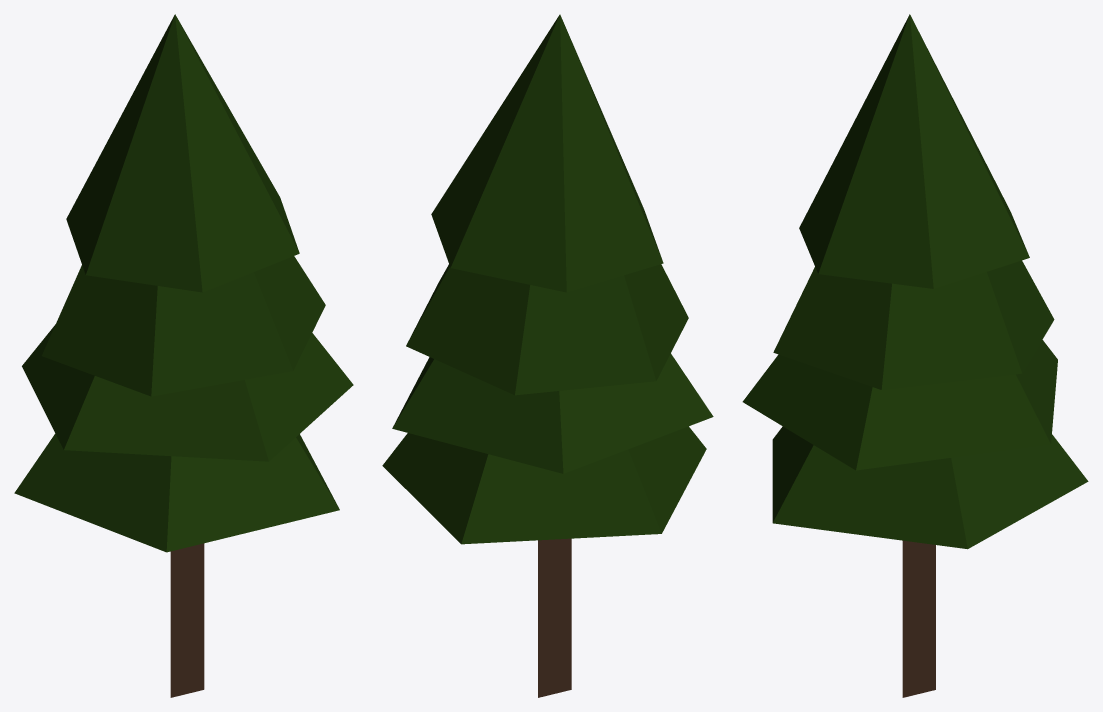
Rendered from spruceTree.fbx.
3 views of the same model, side by side, from view 1: azimuth 30°, elevation 25°; view 2: azimuth 150°, elevation 25°; view 3: azimuth 270°, elevation 25° (orthographic).
Parts seen in each view (by area): view 1: Cylinder; view 2: Cylinder; view 3: Cylinder.
Boxes of the visible parts, x1,y1,x2,y2 form: Cylinder: (14,14,353,697); Cylinder: (382,14,713,697); Cylinder: (742,14,1088,697).
Bounding box in the file's own units: 468 × 1068 × 499.
